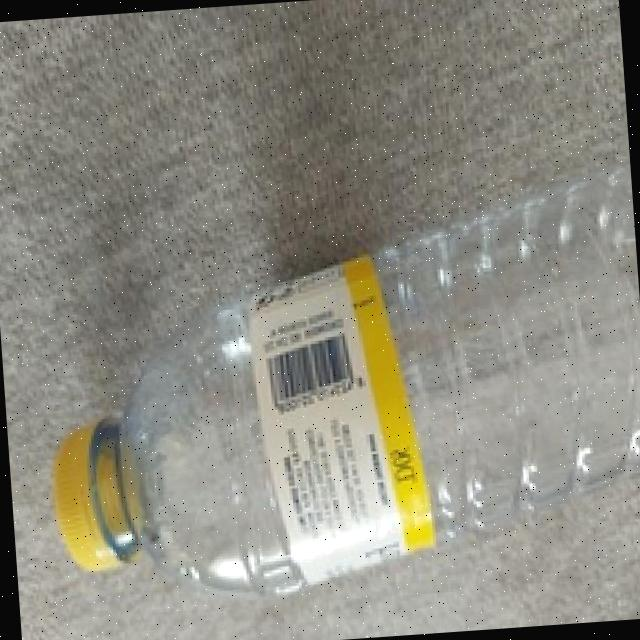bottle: (18, 164, 640, 621)
cap: (44, 417, 140, 578)
label: (254, 226, 423, 593)
